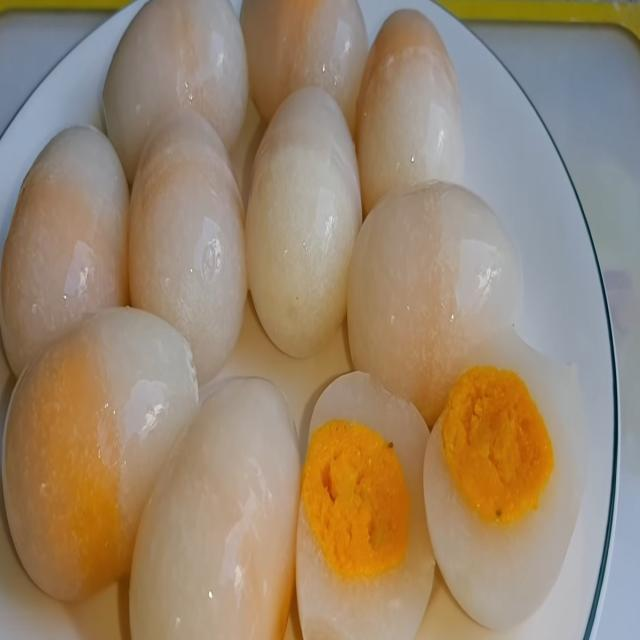trung luoc: (4, 307, 198, 600), (424, 330, 588, 631), (130, 378, 301, 639), (347, 182, 521, 426), (295, 371, 434, 639), (0, 126, 129, 376), (128, 111, 246, 383), (245, 86, 362, 357), (103, 0, 248, 182), (354, 10, 463, 215), (240, 0, 369, 134)
